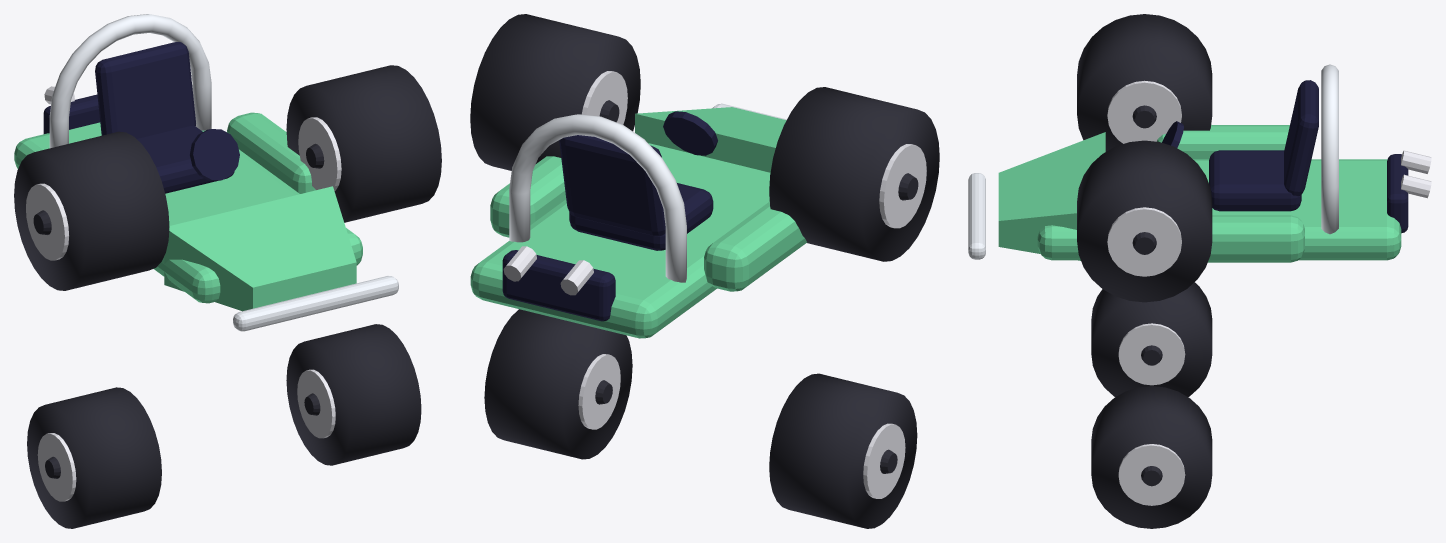
Rendered from Car_Gecko.fbx.
3 views of the same model, side by side, from view 1: azimuth 30°, elevation 25°; view 2: azimuth 150°, elevation 25°; view 3: azimuth 270°, elevation 25° (orthographic). The views are drawn at different scales.
Parts seen in each view (by area): view 1: Car_Gecko, Wheel_RL, Wheel_RR, Wheel_FL, Wheel_FR; view 2: Car_Gecko, Wheel_RL, Wheel_FL, Wheel_RR, Wheel_FR; view 3: Car_Gecko, Wheel_RR, Wheel_RL, Wheel_FR, Wheel_FL.
Part boxes in pixels (<box>): Car_Gecko: <box>14,14,398,331</box>; Wheel_RL: <box>14,131,169,290</box>; Wheel_RR: <box>286,65,441,222</box>; Wheel_FL: <box>27,387,161,528</box>; Wheel_FR: <box>286,324,421,465</box>; Car_Gecko: <box>470,103,806,338</box>; Wheel_RL: <box>769,87,939,261</box>; Wheel_FL: <box>769,373,917,528</box>; Wheel_RR: <box>470,14,640,170</box>; Wheel_FR: <box>484,309,632,459</box>; Car_Gecko: <box>968,64,1431,262</box>; Wheel_RR: <box>1077,140,1212,302</box>; Wheel_RL: <box>1077,14,1212,151</box>; Wheel_FR: <box>1091,386,1212,528</box>; Wheel_FL: <box>1091,282,1212,396</box>.
Bounding box in the file's own units: 1.17 × 1.18 × 1.3.
